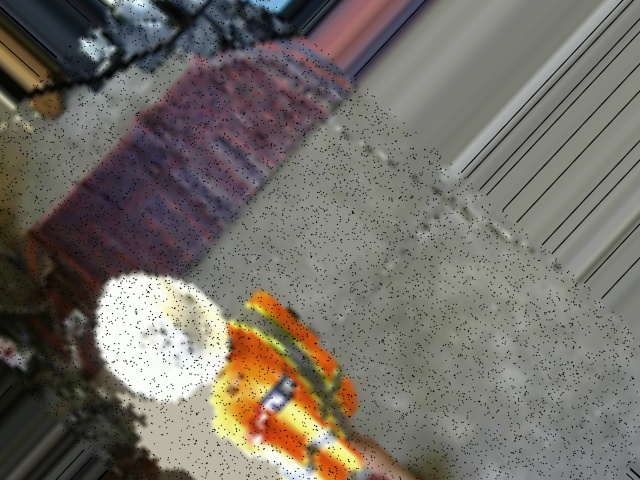eight: (130, 309, 202, 380)
